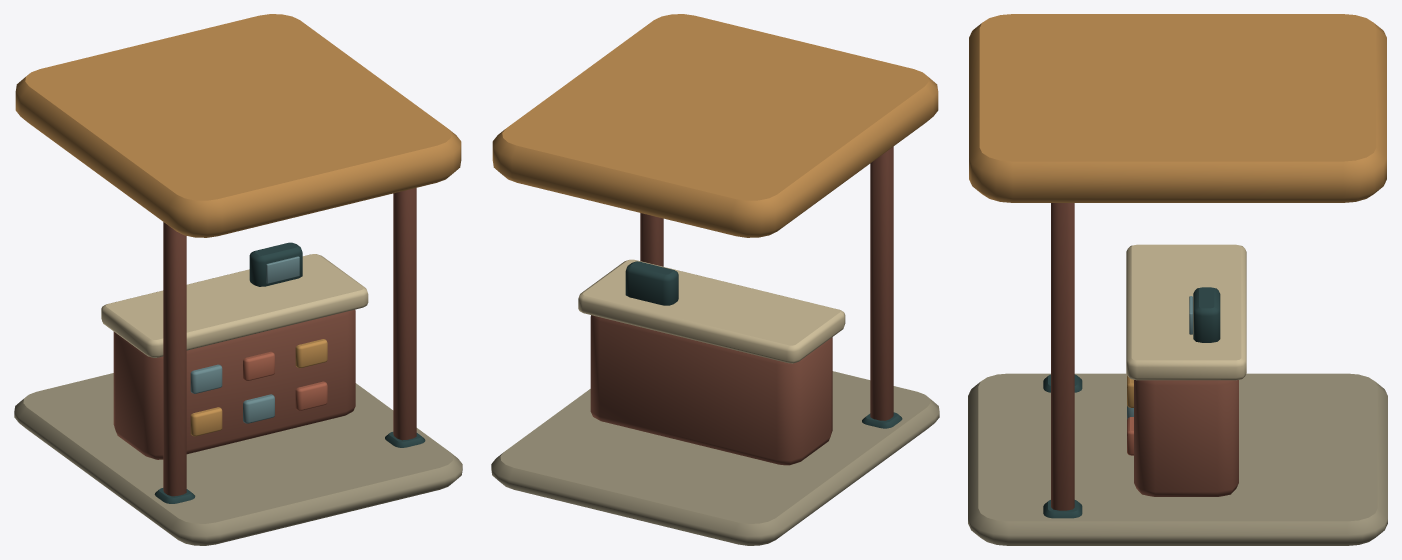
The model's file is cafe_works_2.glb.
3 views of the same model, side by side, from view 1: azimuth 30°, elevation 25°; view 2: azimuth 150°, elevation 25°; view 3: azimuth 270°, elevation 25° (orthographic). The views are drawn at different scales.
Parts seen in each view (by area): view 1: CafeWorks2; view 2: CafeWorks2; view 3: CafeWorks2.
Part boxes in pixels (left/top/right/bottom): CafeWorks2: left=14, top=14, right=462, bottom=545; CafeWorks2: left=491, top=14, right=939, bottom=545; CafeWorks2: left=968, top=14, right=1387, bottom=545.
Size of the model in its own units: 2.19 by 2.51 by 2.48.
